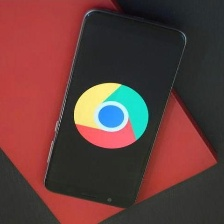phone: (40, 3, 191, 213)
